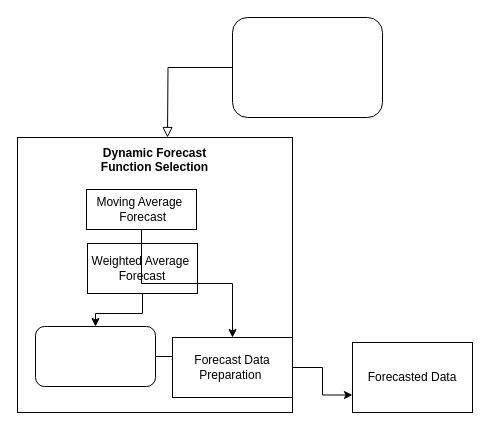
Some shapes in this 490 by 430 pixel diagram are drawn without their labels. Each missing label, with the box of its shape:
Time Series Data: (232, 16, 382, 118)
Weighted Average with ARIMA Model Forecast: (34, 326, 156, 386)
